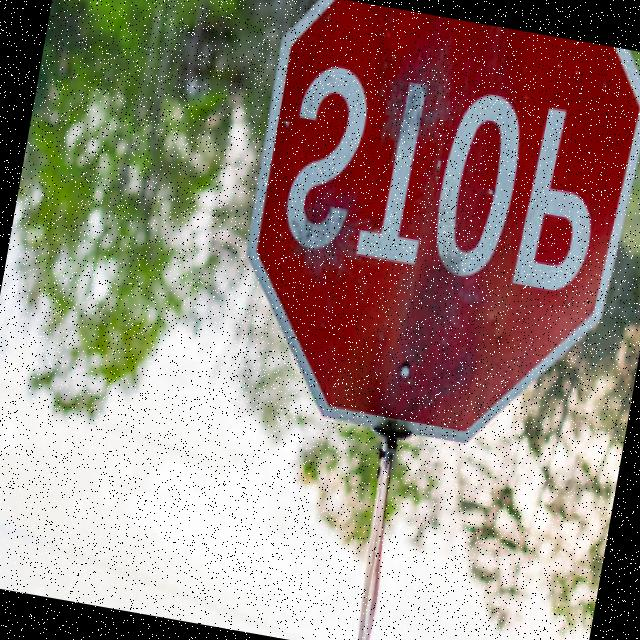stop: (209, 0, 640, 479)
